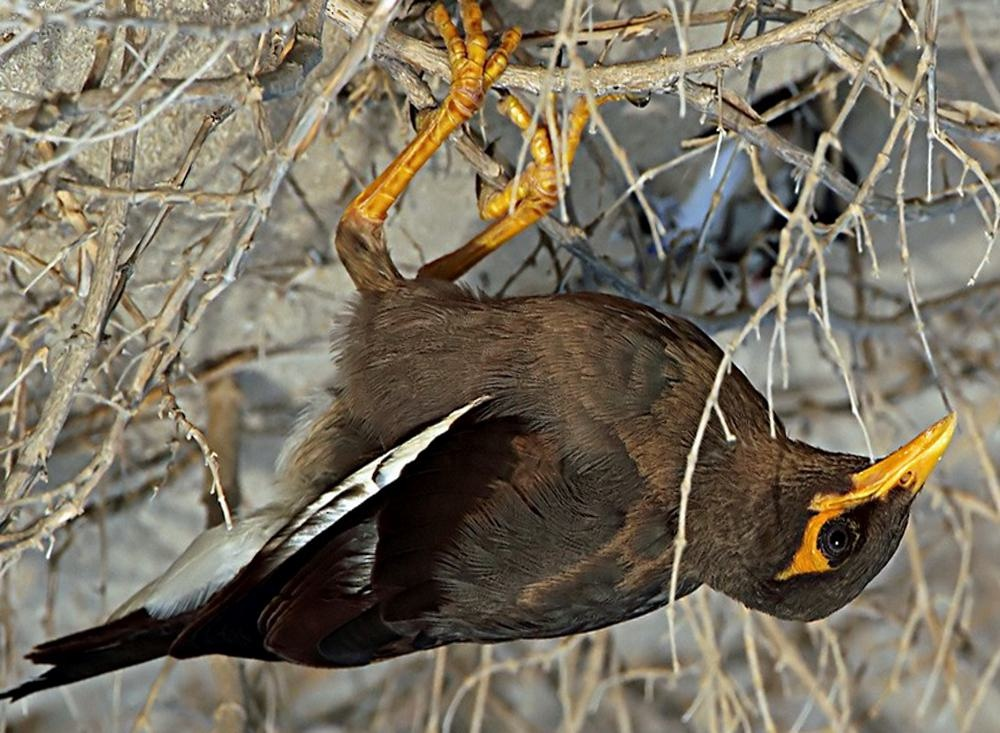myna: (207, 77, 958, 643)
